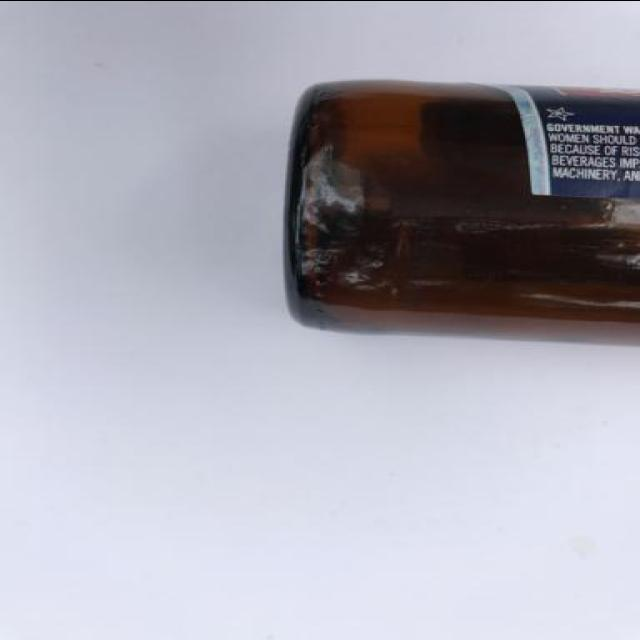litter: (278, 81, 638, 345)
